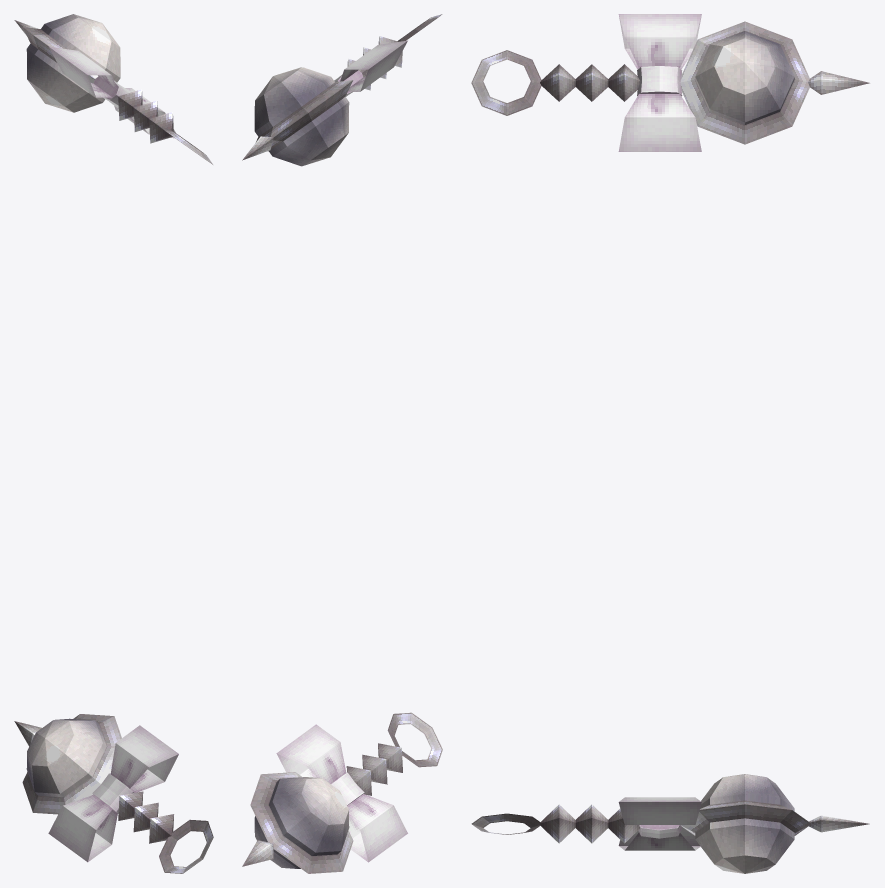
File: options749.obj
The picture shows the model from 3 angles, left to right: view 1: azimuth 30°, elevation 25°; view 2: azimuth 150°, elevation 25°; view 3: azimuth 270°, elevation 25°; orthographic projection. The views are drawn at different scales.
Parts seen in each view (by area): view 1: options749; view 2: options749; view 3: options749.
Part boxes in pixels (bbox=[...]): options749: bbox=[14, 14, 213, 873]; options749: bbox=[242, 14, 442, 873]; options749: bbox=[471, 14, 869, 873].
Size of the model in its own units: 0.042 by 0.347 by 0.1504.
1 material, 1 textured.
